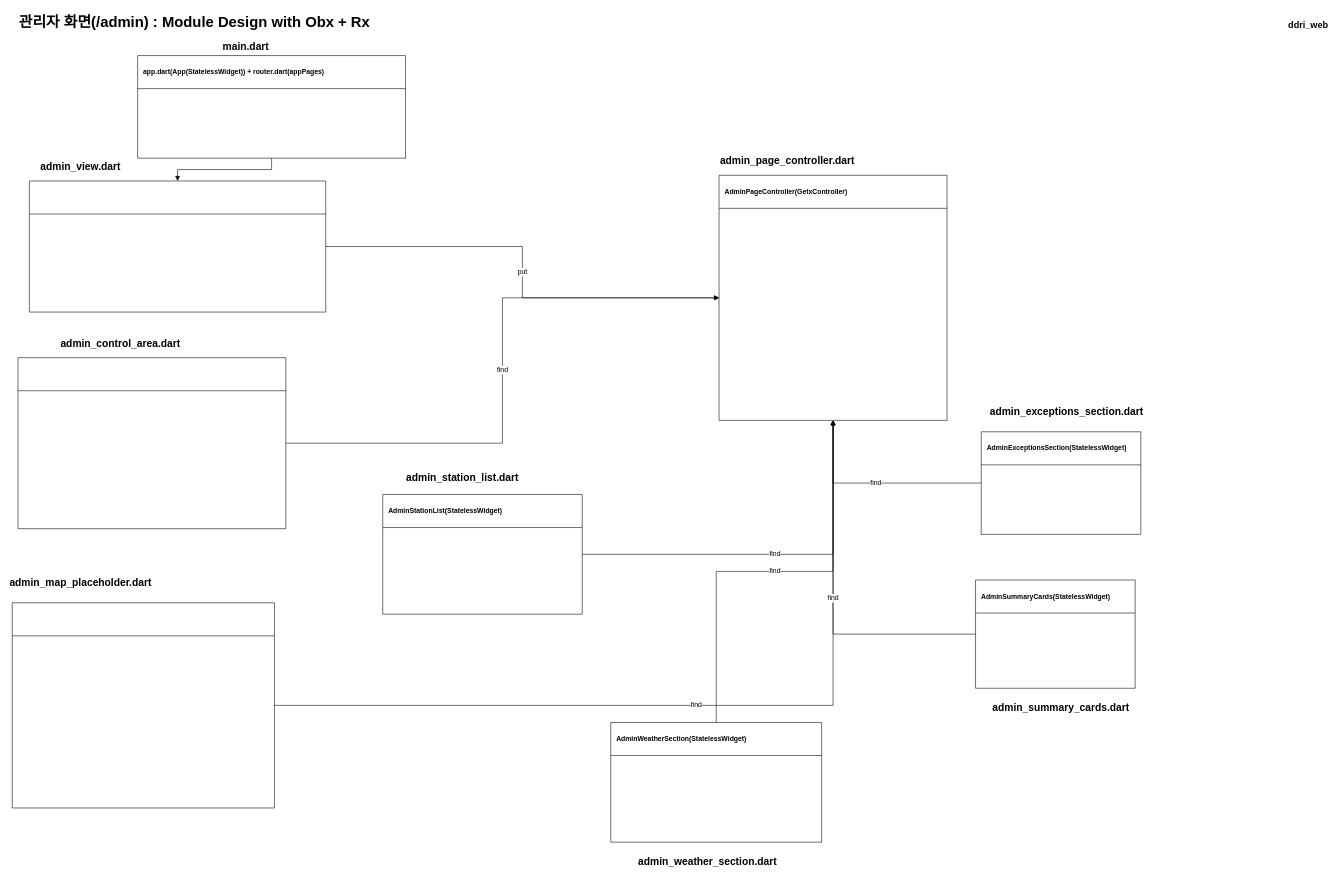
The diagram is 1339 pixels wide and 880 high, and some of its shapes have lost their labels. The box of each missing label's shape, as (x1, y1, x2, y2) in pixels:
AdminControlArea(StatelessWidget): (17, 357, 286, 529)
AdminMapPlaceholder(StatefulWidget), _AdminMapPlaceholderState(State): (12, 602, 274, 808)
AdminView(StatelessWidget): (29, 180, 326, 312)
